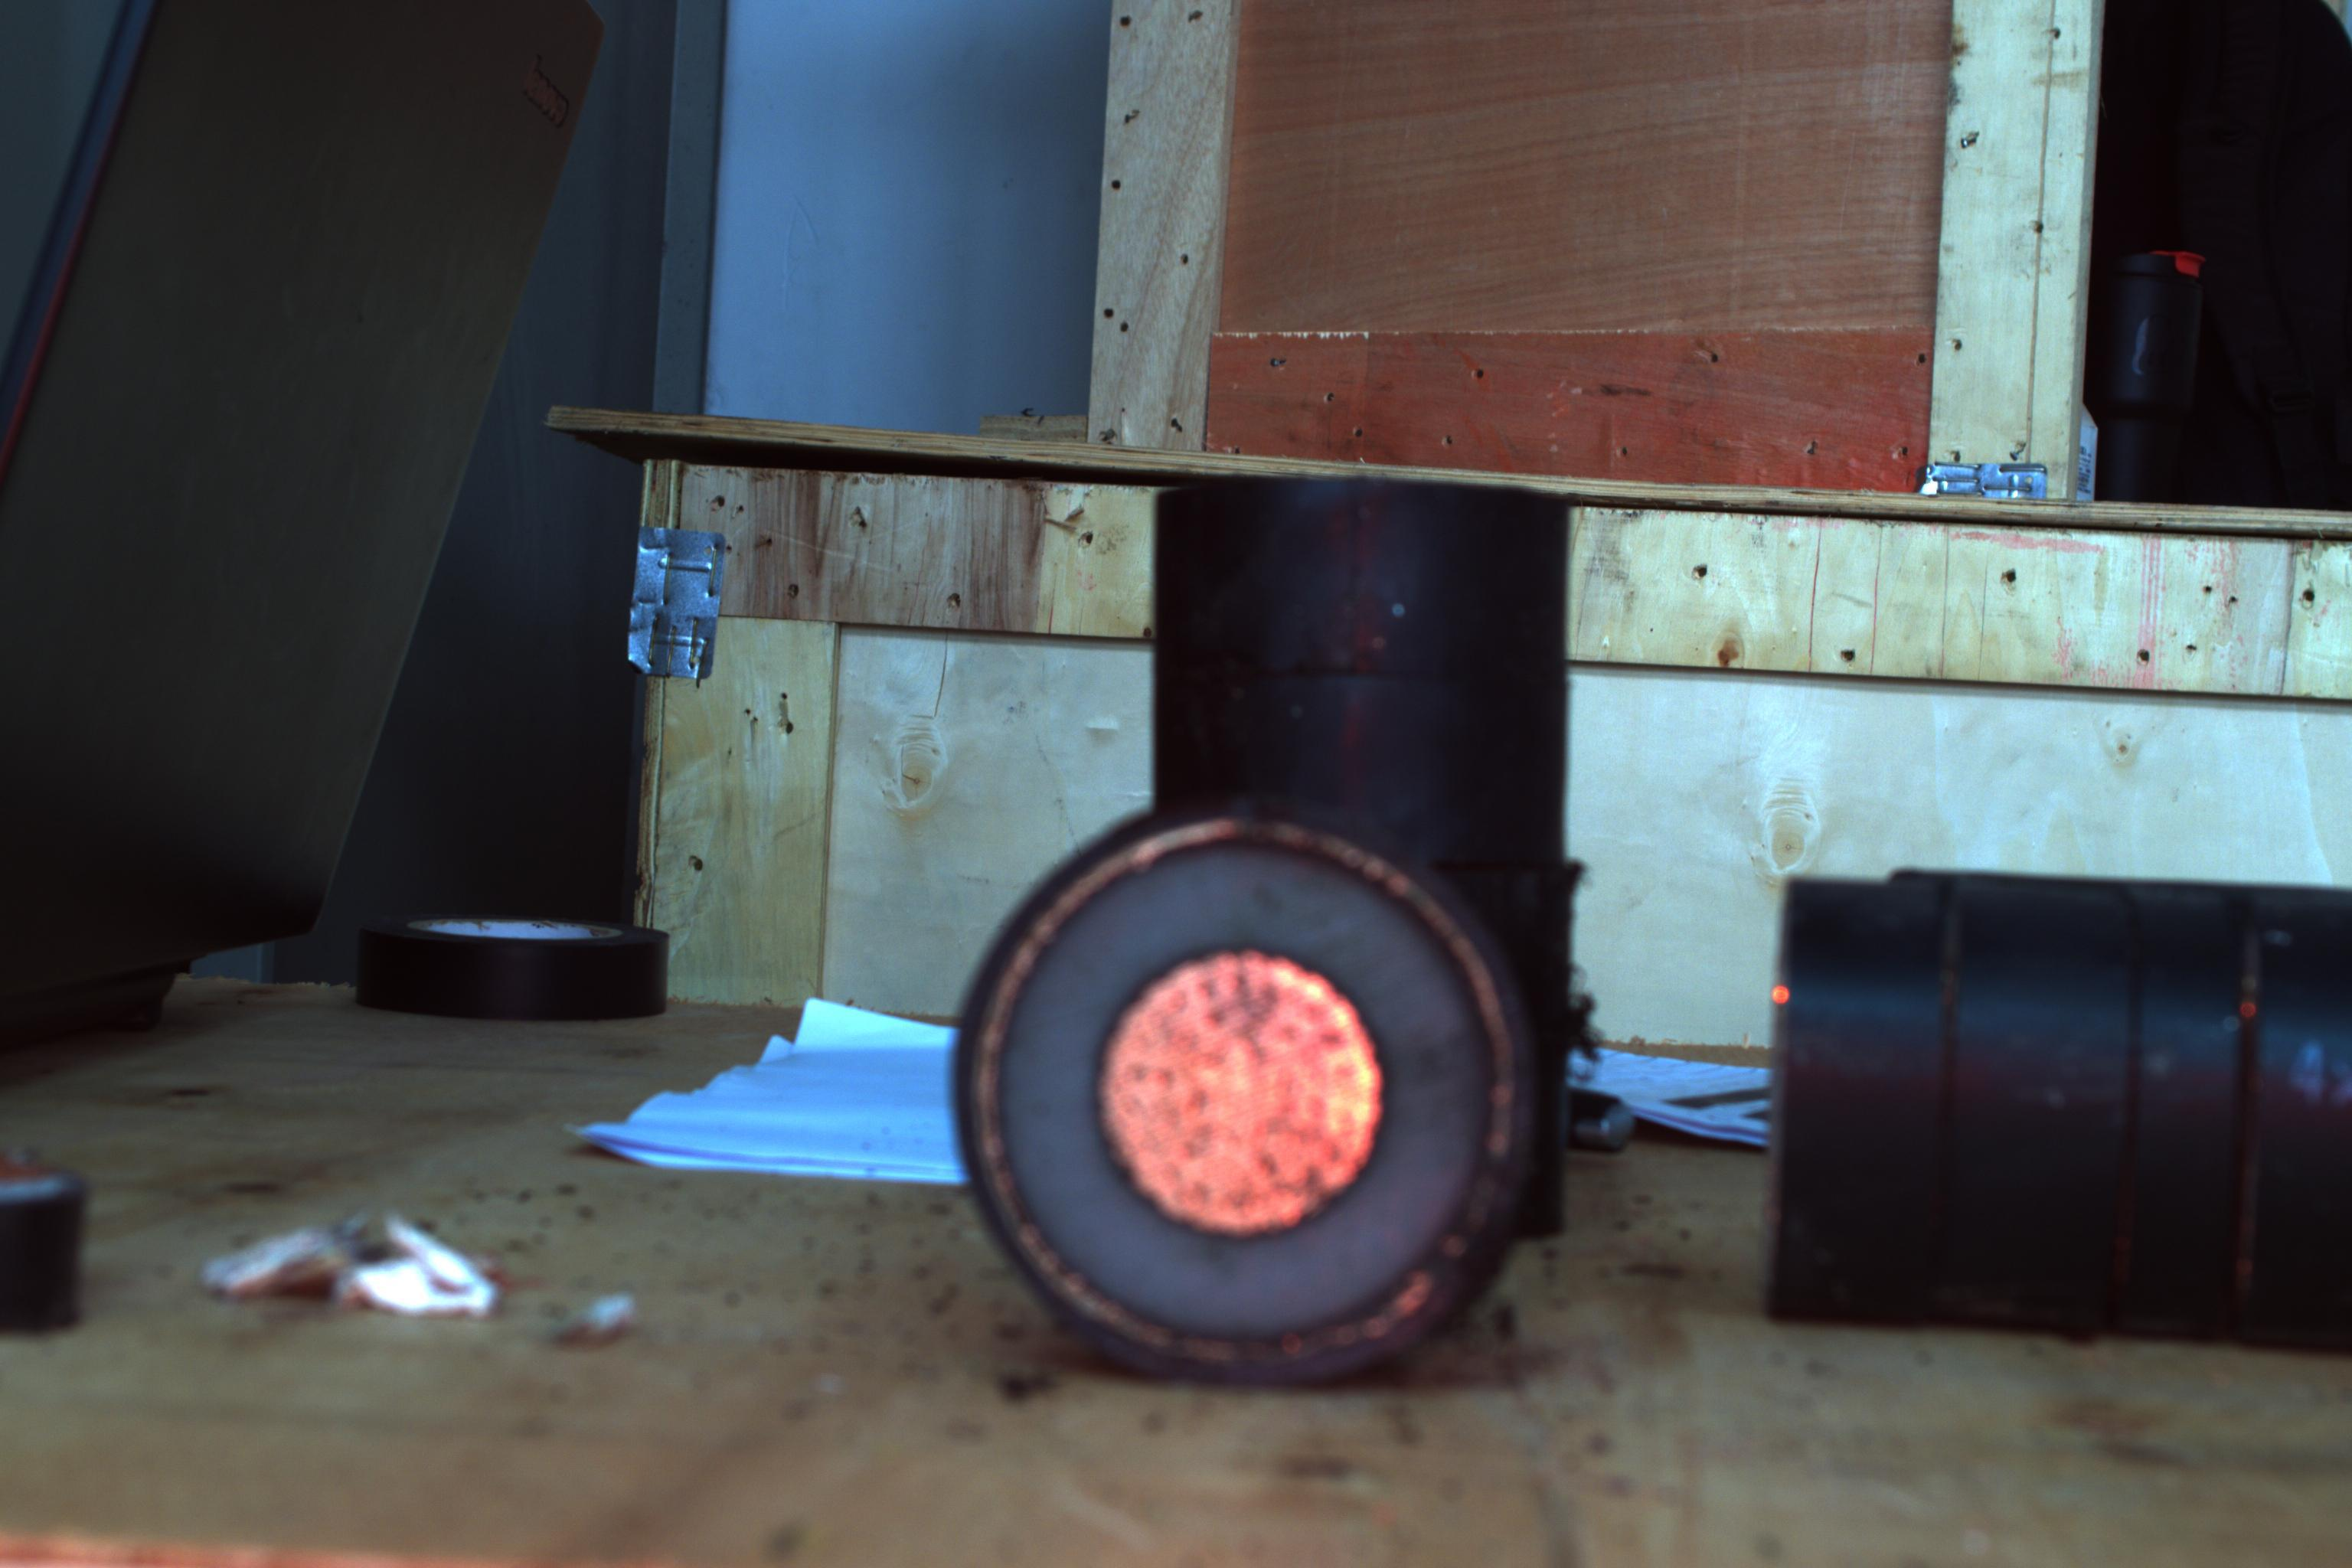YJV_26_35kV_1x630: (955, 807, 1554, 1388)
